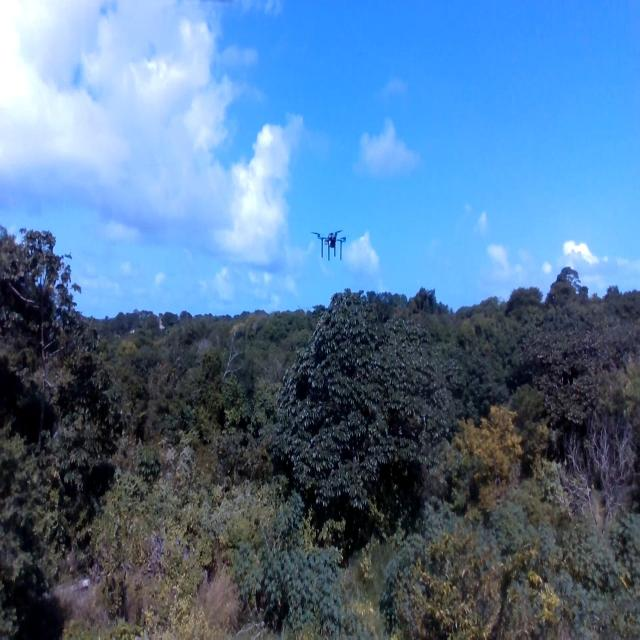-uav-: (308, 214, 353, 270)
